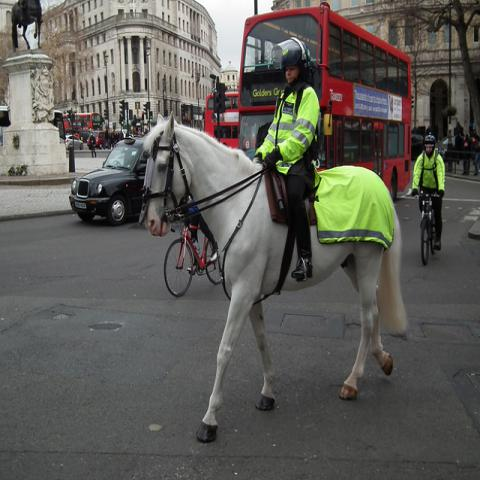bus: (237, 6, 414, 199), (206, 88, 238, 150), (62, 112, 96, 132), (53, 110, 62, 128)
car: (68, 134, 148, 217), (87, 130, 105, 151), (65, 134, 84, 150)
